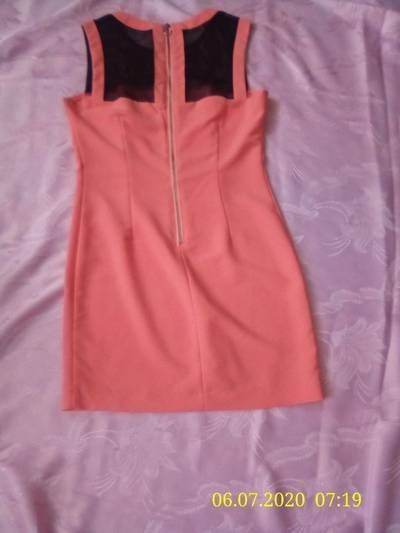Dress: (61, 6, 337, 427)
